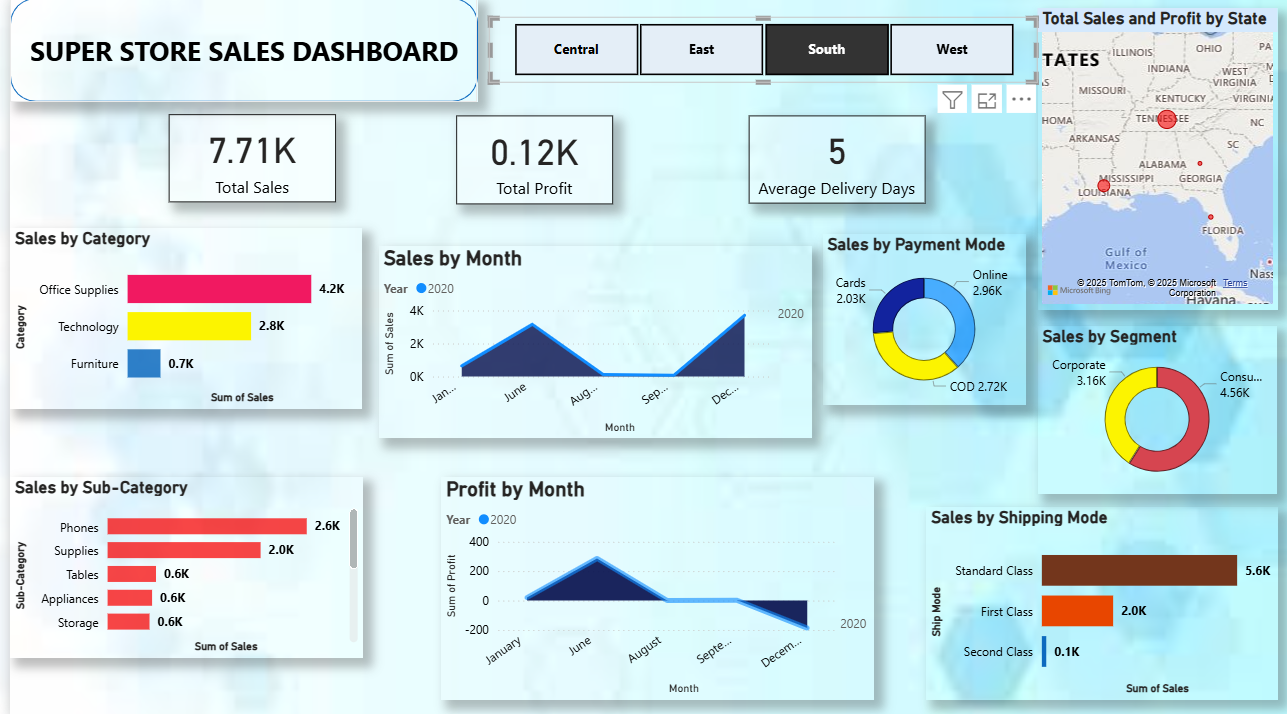

The page's visual inventory and layout, read from the dashboard file:
{"tool":"powerbi","page":{"name":"Dashboard","canvas":[1280,720],"ordinal":0},"visuals":[{"type":"barChart","title":" Sales by Category","fields":{"Category":["Superstore.Category"],"Y":["Sum(Superstore.Sales)"]},"box":[0,230.4,352.3,181],"z":0},{"type":"barChart","title":" Sales by Shipping Mode","fields":{"Category":["Superstore.Ship Mode"],"Y":["Sum(Superstore.Sales)"]},"box":[915.7,509.1,352.3,193],"z":1000},{"type":"stackedAreaChart","title":" Sales by Month ","fields":{"Y":["Sum(Superstore.Sales)"],"Category":["Superstore.Order Date.Variation.Date Hierarchy.Month"],"Series":["Superstore.Order Date.Variation.Date Hierarchy.Year"]},"box":[369.2,247.3,433.1,193],"z":2000},{"type":"stackedAreaChart","title":" Profit by Month ","fields":{"Category":["Superstore.Order Date.Variation.Date Hierarchy.Month"],"Series":["Superstore.Order Date.Variation.Date Hierarchy.Year"],"Y":["Sum(Superstore.Profit)"]},"box":[430.7,479,433.1,223.2],"z":3000},{"type":"donutChart","title":"Sales by Segment","fields":{"Y":["Sum(Superstore.Sales)"],"Category":["Superstore.Segment"]},"box":[1027.9,327.9,239.5,168.6],"z":4000},{"type":"donutChart","title":"Sales by Payment Mode","fields":{"Category":["Superstore.Payment Mode"],"Y":["Sum(Superstore.Sales)"]},"box":[812.8,236,203.5,170.9],"z":5000},{"type":"shape","box":[0,0,468.1,103.8],"z":6000},{"type":"map","title":"Total Sales and Profit by State","fields":{"Category":["Superstore.State"],"Size":["Sum(Superstore.Sales)"]},"box":[1027.9,9.7,240.1,301.6],"z":7000},{"type":"barChart","title":" Sales by Sub-Category","fields":{"Category":["Superstore.Sub-Category"],"Y":["Sum(Superstore.Sales)"]},"box":[0,479.3,352.9,180.5],"z":8000},{"type":"slicer","fields":{"Values":["Superstore.Region"]},"box":[479,19.3,548.9,65.1],"z":9000},{"type":"card","title":"cv ","fields":{"Values":["Sum(Superstore.Sales)"]},"box":[159.3,116.3,167.4,88.4],"z":10000},{"type":"card","title":"cv ","fields":{"Values":["Sum(Superstore.Profit)"]},"box":[446.4,118,157,89.1],"z":11000},{"type":"card","title":"cv ","fields":{"Values":["Avg(Superstore.Avg_ship_day)"]},"box":[738.4,117.4,176.7,88.4],"z":13000}]}

Visuals, with their boxes in screenshot pixels (x1, y1, x2, y2), scaled from the page's 1280x720 canvas onto the 1287x714 screenshot:
" Sales by Category" barChart: left=0, top=228, right=354, bottom=408
" Sales by Shipping Mode" barChart: left=921, top=505, right=1275, bottom=696
" Sales by Month " stackedAreaChart: left=371, top=245, right=807, bottom=437
" Profit by Month " stackedAreaChart: left=433, top=475, right=869, bottom=696
"Sales by Segment" donutChart: left=1034, top=325, right=1274, bottom=492
"Sales by Payment Mode" donutChart: left=817, top=234, right=1022, bottom=404
shape: left=0, top=0, right=471, bottom=103
"Total Sales and Profit by State" map: left=1034, top=10, right=1275, bottom=309
" Sales by Sub-Category" barChart: left=0, top=475, right=355, bottom=654
slicer - Superstore.Region: left=482, top=19, right=1034, bottom=84
"cv " card: left=160, top=115, right=328, bottom=203
"cv " card: left=449, top=117, right=607, bottom=205
"cv " card: left=742, top=116, right=920, bottom=204
